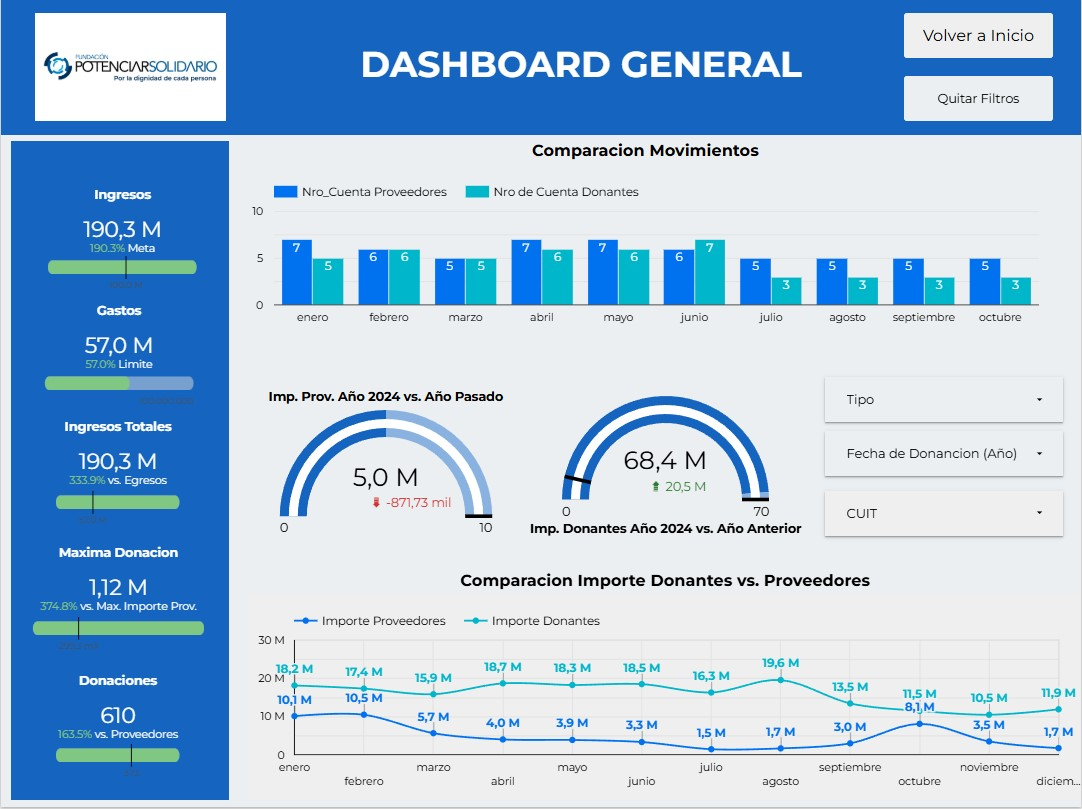

What the dashboard file says about the page in this screenshot:
{"tool":"powerbi","page":{"name":"General","canvas":[1280,720],"ordinal":3},"visuals":[{"type":"shape","box":[0,0,1280.4,133.9],"z":0},{"type":"image","box":[2.9,8.8,218.8,109.9],"z":1000},{"type":"textbox","box":[351.1,28.4,577.2,78],"z":2000},{"type":"slicer","fields":{"Values":["fundacionbd pais.Pais"]},"box":[1003.7,63.8,154.3,70],"z":3000},{"type":"actionButton","box":[1201.5,78.9,46.1,40.8],"z":4000},{"type":"actionButton","box":[1201.5,14.2,55.9,40.8],"z":5000},{"type":"slicer","fields":{"Values":["Tabla Calendario.Date.Variación.Jerarquía de fechas.Mes"]},"box":[1003.7,5.3,154.3,58.5],"z":6000},{"type":"kpi","title":"Ingresos vs Egresos","fields":{"Indicator":["Sum(fundacionbd ingreso.Importe)"],"TrendLine":["fundacionbd ingreso.Importe"],"Goal":["Sum(fundacionbd egresos.Importe)"]},"box":[12.4,151.6,170.2,102],"z":7000},{"type":"kpi","title":"Donantes vs Proveedores","fields":{"Indicator":["CountNonNull(fundacionbd ingreso.Id_Ingreso)"],"Goal":["Sum(fundacionbd egresos.Id_Egreso)"],"TrendLine":["fundacionbd egresos.Id_Egreso"]},"box":[194.2,151.6,173.8,102],"z":8000},{"type":"lineStackedColumnComboChart","title":"Ingesos vs Egresos por Mes","fields":{"Y":["Sum(fundacionbd ingreso.Importe)"],"Category":["Tabla Calendario.Date.Variación.Jerarquía de fechas.Mes"],"Y2":["Sum(fundacionbd egresos.Importe)"]},"box":[12.4,518.7,1254.7,189.8],"z":9000},{"type":"card","title":"Promedio Ingresos","fields":{"Values":["Medidas.Prom Importe Don"]},"box":[11.7,270.4,170.2,100.2],"z":10000},{"type":"card","title":"Promedio Egresos","fields":{"Values":["Medidas.Prom Importe x Prov"]},"box":[194.5,270.4,173.1,100.2],"z":11000},{"type":"card","title":"Ingresos de Argentina","fields":{"Values":["Sum(fundacionbd ingreso.Importe)"]},"box":[11.7,387.1,170.2,109.9],"z":12000},{"type":"card","title":"Cuentas Registradas","fields":{"Values":["Count(fundacionbd cuenta.Cuenta)"]},"box":[194.5,387.1,174.1,109.9],"z":13000},{"type":"clusteredBarChart","title":"Top 3 Egresos por Ciudad","fields":{"Y":["Sum(fundacionbd egresos.Importe)"],"Category":["fundacionbd ciudad.Ciudad"]},"box":[384.2,151.7,333.6,169.2],"z":14000},{"type":"pieChart","title":"Estado de Donantes","fields":{"Category":["fundacionbd estadodonante.Estado_donante"],"Y":["CountNonNull(fundacionbd ingreso.Id_Donante)"]},"box":[738.2,151.7,250.9,345.3],"z":15000},{"type":"funnel","title":"Importe por Tipo de Contribuyente","fields":{"Category":["fundacionbd tipocontribuyente.Tipo_contribuyente"],"Y":["Sum(fundacionbd egresos.Importe)"]},"box":[384.2,332.6,333.6,164.4],"z":16000},{"type":"treemap","title":"Frecuencia de Ingreso","fields":{"Group":["fundacionbd frecuencia.Frecuencia"],"Values":["Sum(fundacionbd ingreso.Importe)"]},"box":[1003.8,151.7,263.6,345.3],"z":17000}]}

Visuals, with their boxes on the page's 1280x720 design canvas (x1, y1, x2, y2). These are canvas units, not pixel positions in the 1082x809 screenshot, which may show the page scaled, cropped or inside an application window:
shape: (0,0,1280,134)
image: (3,9,222,119)
textbox: (351,28,928,106)
slicer - fundacionbd pais.Pais: (1004,64,1158,134)
actionButton: (1202,79,1248,120)
actionButton: (1202,14,1257,55)
slicer - Tabla Calendario.Date.Variación.Jerarquía de fechas.Mes: (1004,5,1158,64)
"Ingresos vs Egresos" kpi: (12,152,183,254)
"Donantes vs Proveedores" kpi: (194,152,368,254)
"Ingesos vs Egresos por Mes" lineStackedColumnComboChart: (12,519,1267,708)
"Promedio Ingresos" card: (12,270,182,371)
"Promedio Egresos" card: (194,270,368,371)
"Ingresos de Argentina" card: (12,387,182,497)
"Cuentas Registradas" card: (194,387,369,497)
"Top 3 Egresos por Ciudad" clusteredBarChart: (384,152,718,321)
"Estado de Donantes" pieChart: (738,152,989,497)
"Importe por Tipo de Contribuyente" funnel: (384,333,718,497)
"Frecuencia de Ingreso" treemap: (1004,152,1267,497)
